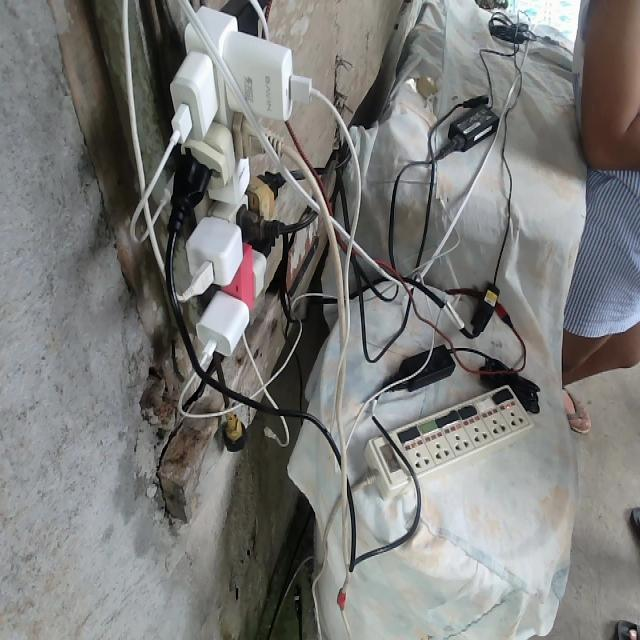-: (151, 4, 316, 357)
